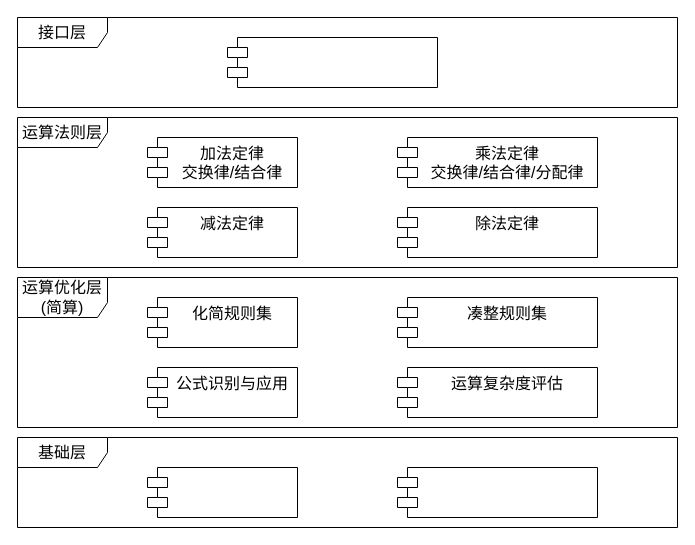
The diagram is 695 pixels wide and 545 high, and some of its shapes have lost their labels. The centre of each missing label's shape, as x and y in pixels:
四则混合运算 步骤拆解接口: point (332, 62)
基础运算: point (222, 492)
语法分析: point (497, 492)
